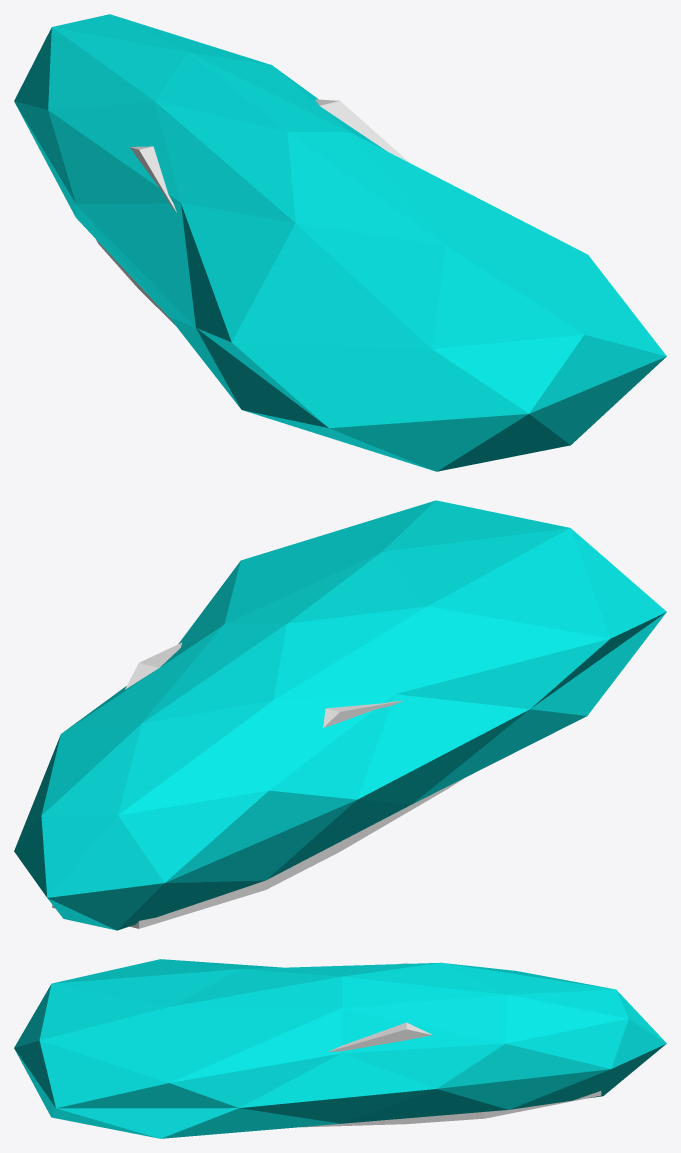
Rendered from Enemy Missile Ship.fbx.
The picture shows the model from 3 angles, top to bottom: view 1: azimuth 30°, elevation 25°; view 2: azimuth 150°, elevation 25°; view 3: azimuth 270°, elevation 25°; orthographic projection. The views are drawn at different scales.
Parts seen in each view (by area): view 1: Shield.004, Cube.001; view 2: Shield.004, Cube.001; view 3: Shield.004, Cube.001.
Boxes of the visible parts, x1,y1,x2,y2 form: Shield.004: (14, 14, 666, 471); Cube.001: (96, 99, 409, 325); Shield.004: (14, 500, 666, 930); Cube.001: (52, 642, 463, 928); Shield.004: (14, 959, 666, 1138); Cube.001: (301, 962, 601, 1127).
Bounding box in the file's own units: 6.46 × 14.22 × 3.21.
